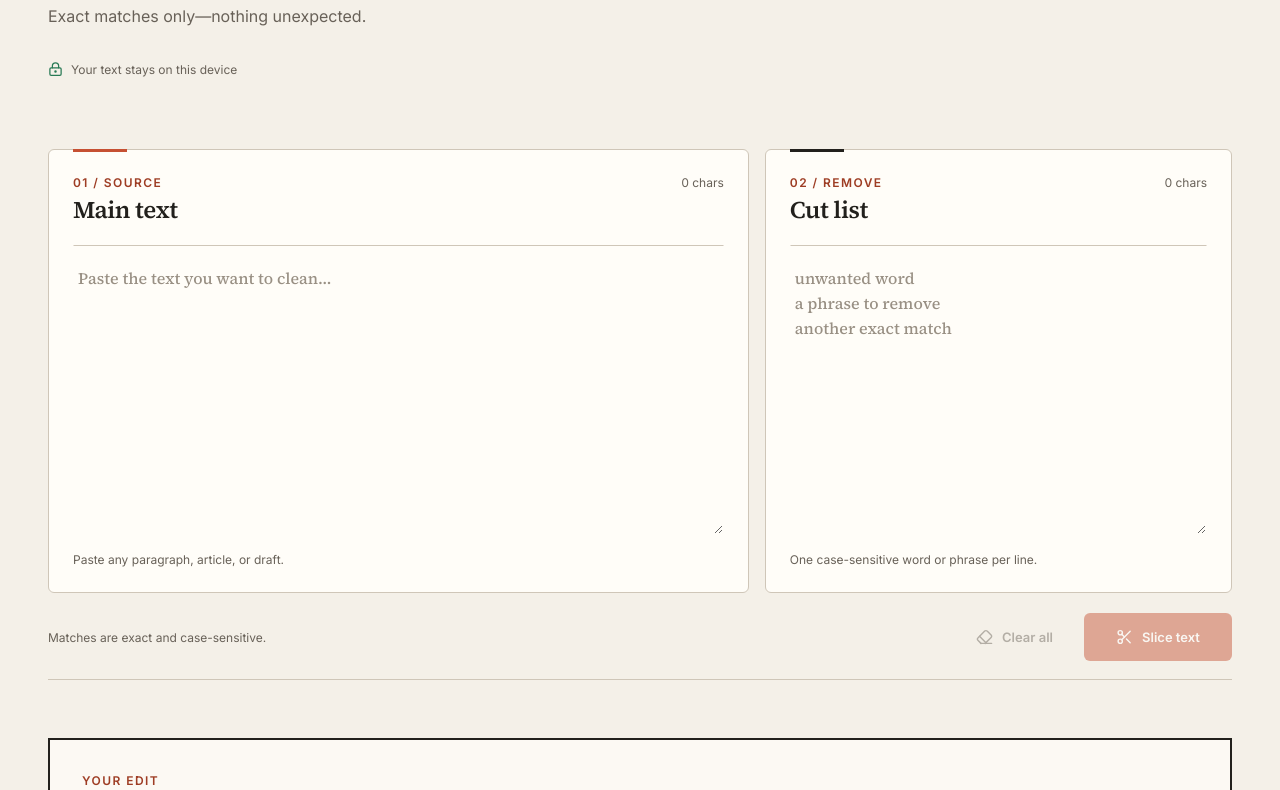
Test: Text Slicer app › keeps the action disabled until both fields contain text
(page scrolled)
Expected: the button "Slice text" is disabled, [1084,613,1232,661]
Type "Hello world" into the text box named "Main text".
click(398, 390); type("Hello world")  # box [73,245,724,535]
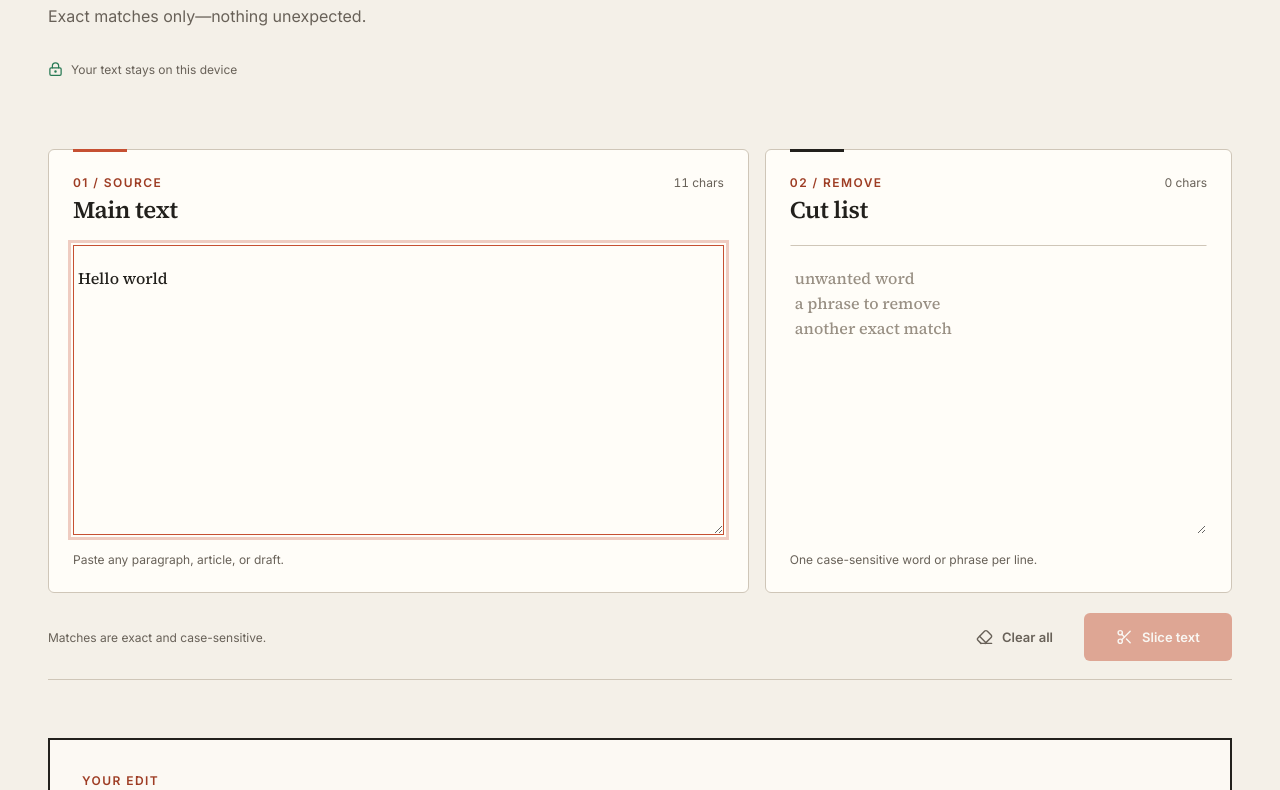
Expected: the button "Slice text" is disabled, [1084,613,1232,661]
Type "world" into the text box named "Cut list".
click(998, 390); type("world")  # box [790,245,1207,535]
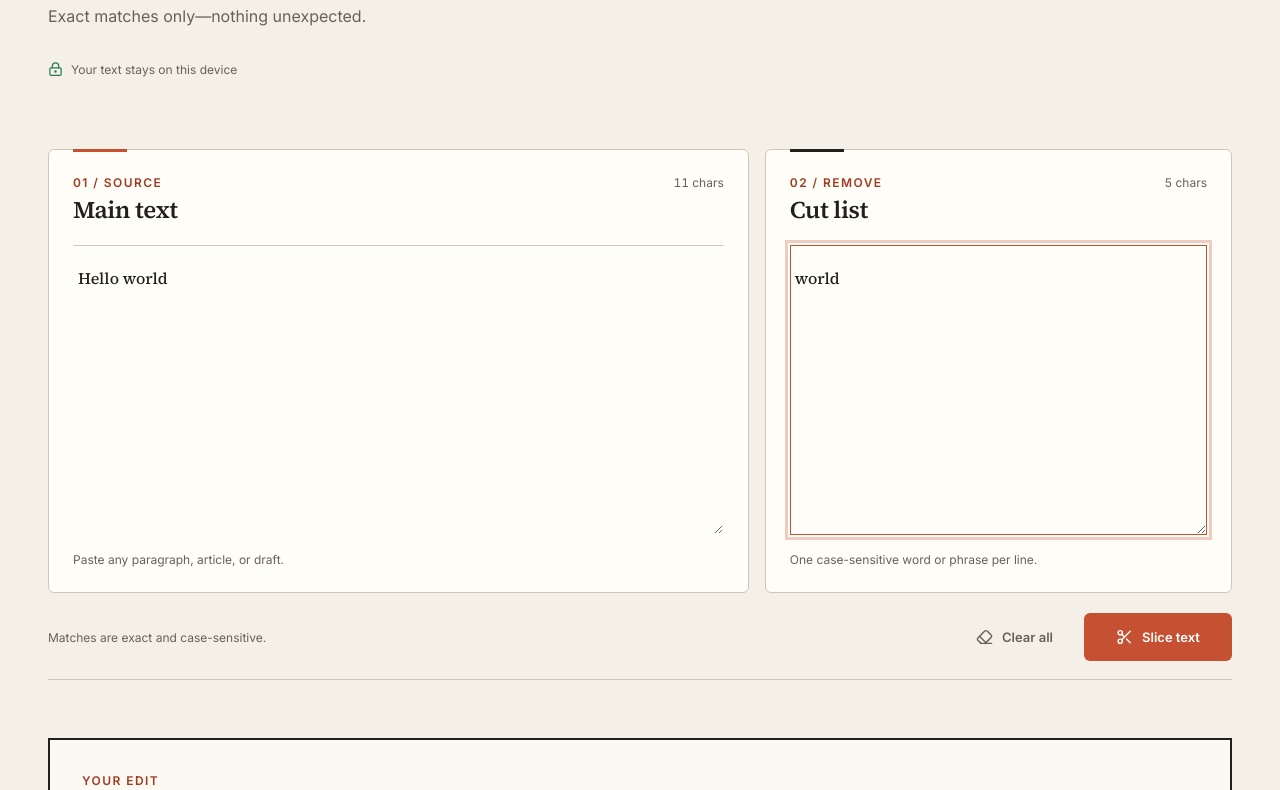
Now the button "Slice text" is enabled, box [1084,613,1232,661]
